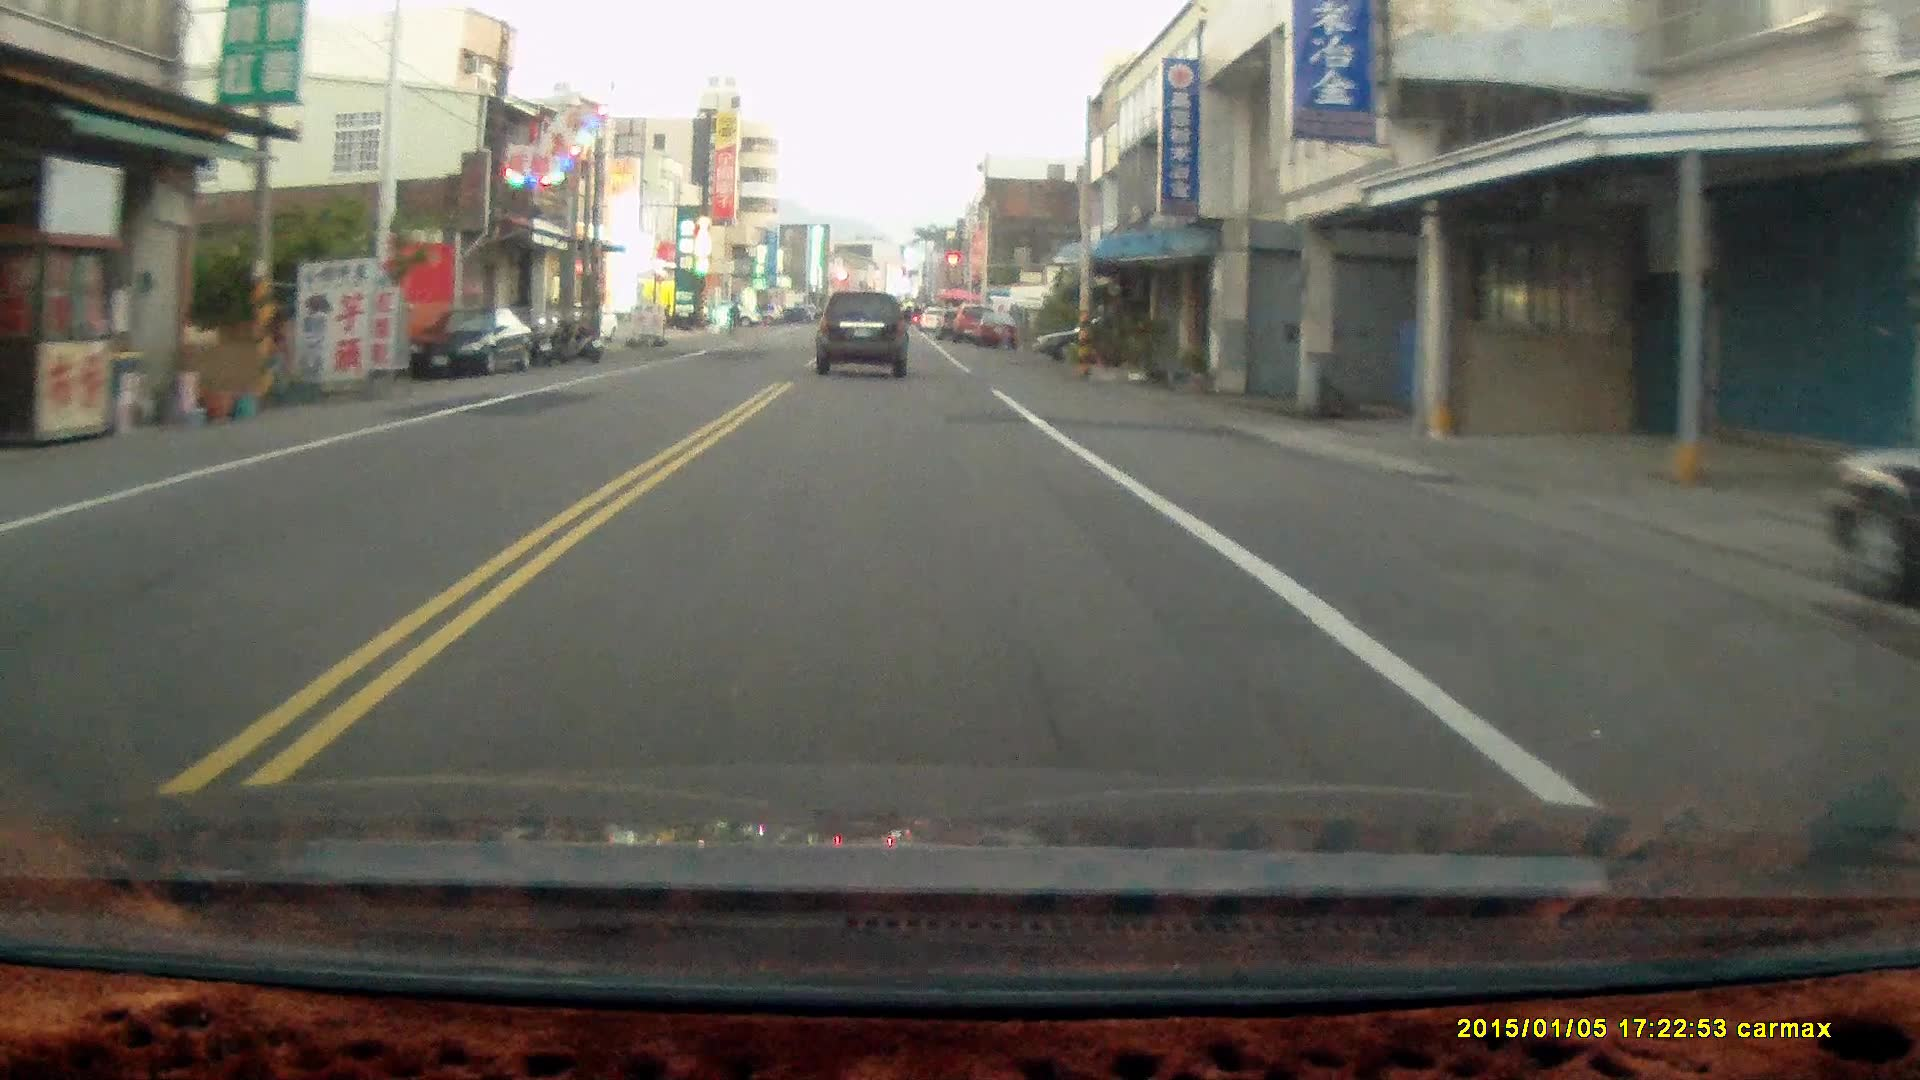vehicle: (409, 302, 537, 378), (818, 291, 910, 380)
